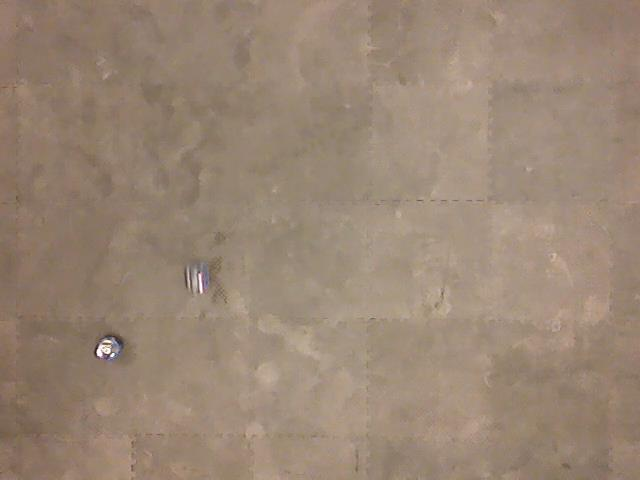Agent: (181, 260, 213, 298), (93, 334, 125, 362)
